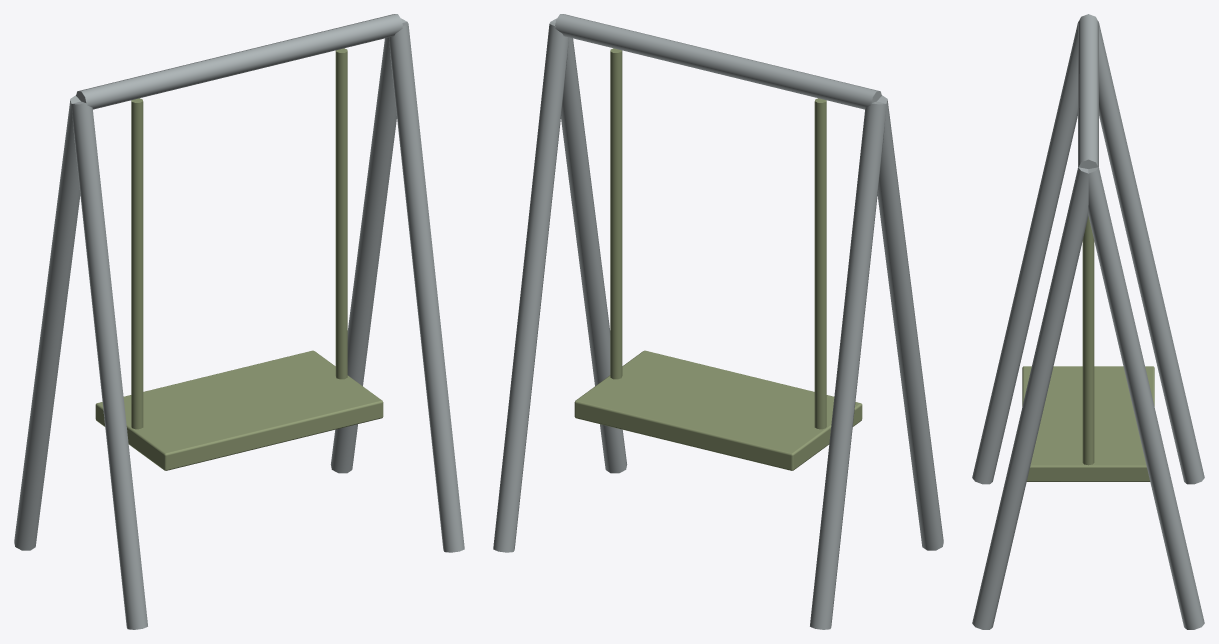
File: flooded-and-coastal-survival-rescue-sling-frame-4b558a19__20072.glb
3 views of the same model, side by side, from view 1: azimuth 30°, elevation 25°; view 2: azimuth 150°, elevation 25°; view 3: azimuth 270°, elevation 25° (orthographic). The views are drawn at different scales.
Visible parts, largest first — view 1: rescue-sling-frame; view 2: rescue-sling-frame; view 3: rescue-sling-frame.
Part boxes in pixels (x1,y1,x2,y2): rescue-sling-frame: [14, 14, 464, 629]; rescue-sling-frame: [493, 14, 943, 629]; rescue-sling-frame: [972, 14, 1204, 629].
Bounding box in the file's own units: 1.38 × 1.95 × 0.8784.
